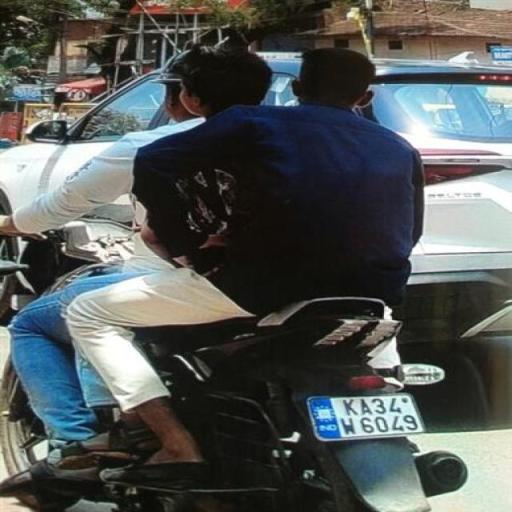tripple riding: (0, 41, 512, 373)
